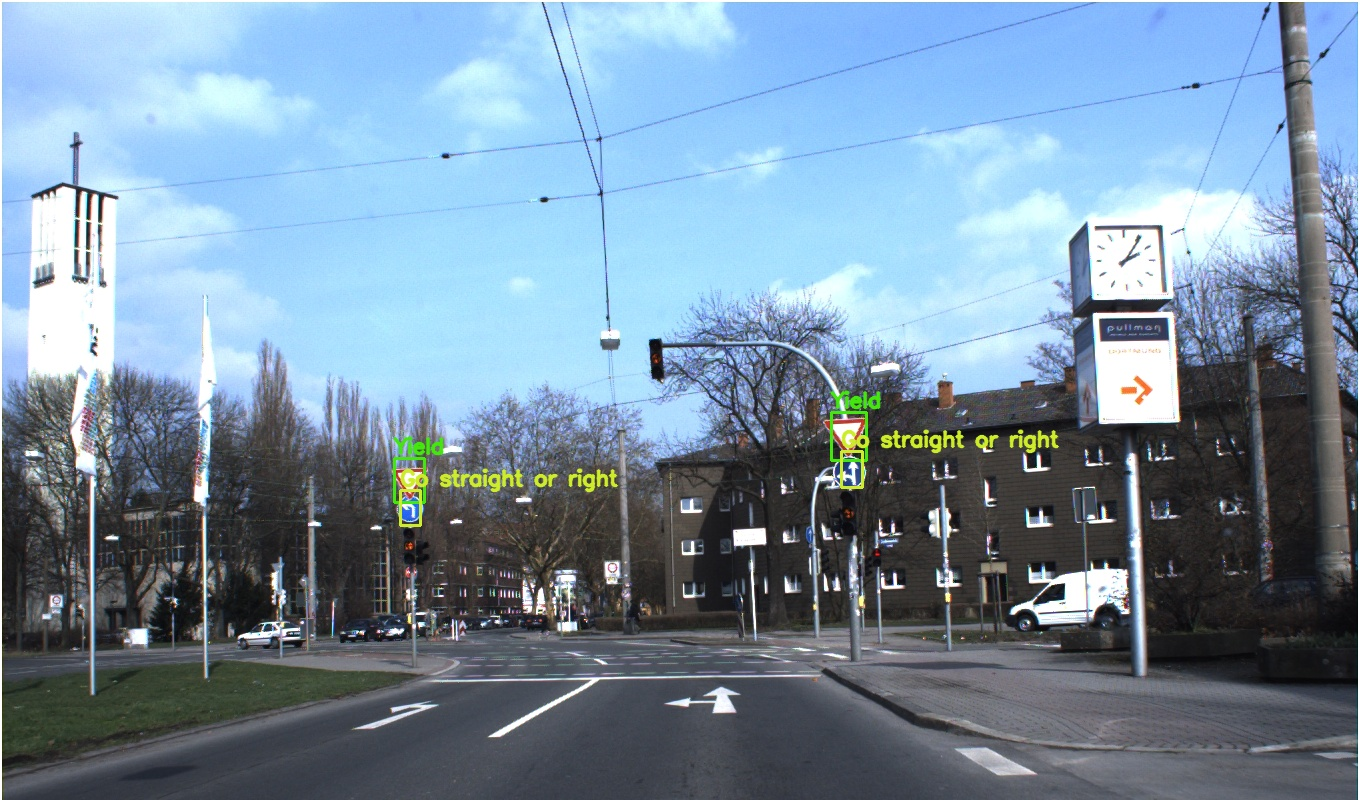Right-of-way at the next intersection: (867, 278, 956, 361)
